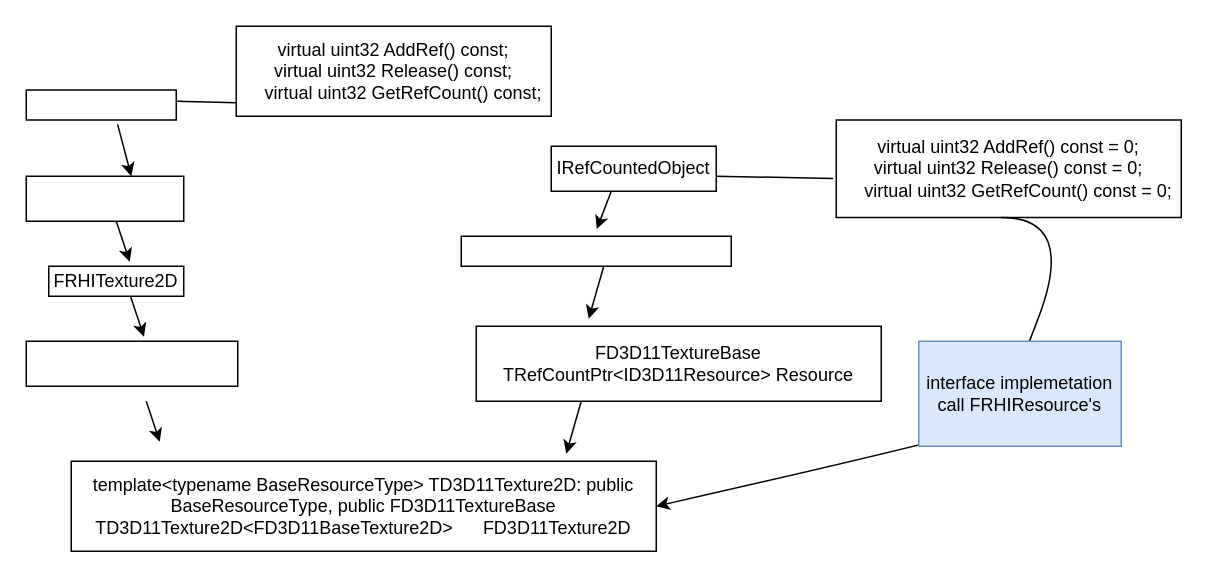
Some shapes in this 1208 by 578 pixel diagram are drawn without their labels. Here are the shapes that lost their labels. From the top down, the centre of each, then its label:
the point at 100,104: FRHIResource
the point at 104,198: FRHITexture
the point at 595,250: FD3D11BaseShaderResource
the point at 131,363: FD3D11BaseTexture2D
